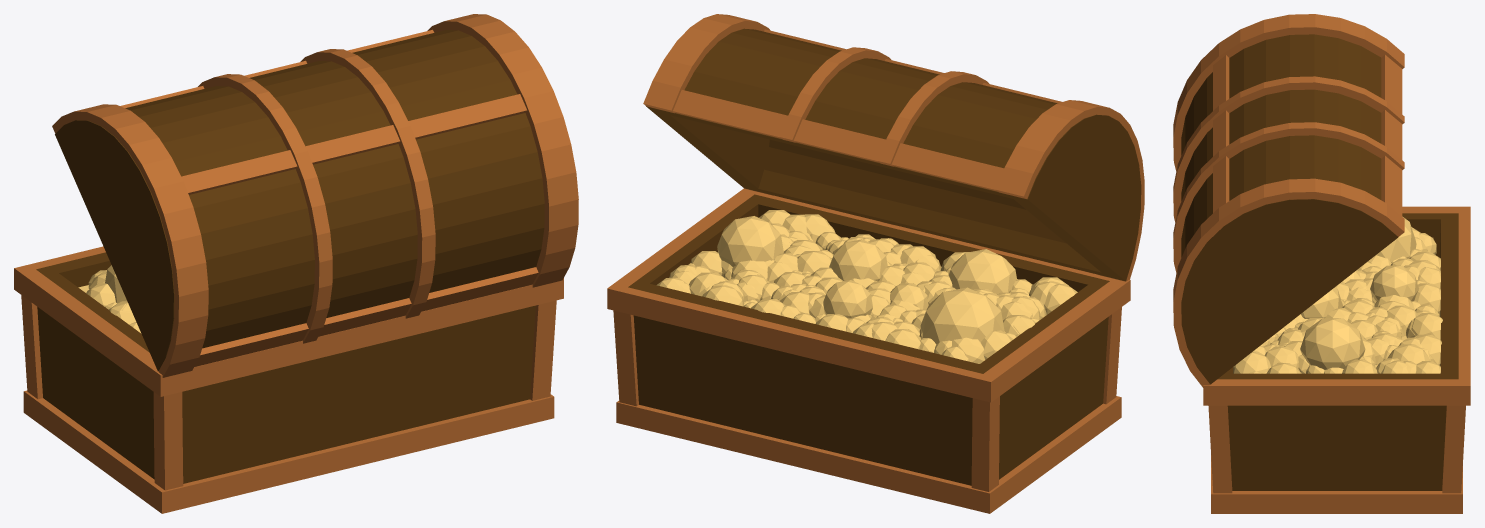
File: treasure chest.fbx
3 views of the same model, side by side, from view 1: azimuth 30°, elevation 25°; view 2: azimuth 150°, elevation 25°; view 3: azimuth 270°, elevation 25° (orthographic). The views are drawn at different scales.
Visible parts, largest first — view 1: top, Cube, Cube.002, Cube.001, top left, top right, top ttop, top middle 2, top middle 1, top bottom 1, Cube.004, Cube.003 (+2 smaller); view 2: top, Cube, Cube.002, Cube.001, top bottom 2, top left, top right, Icosphere.005, Cube.005, Icosphere.003, Icosphere.002, top middle 2 (+7 smaller); view 3: top, Cube, Cube.002, top right, Cube.001, top left, top middle 2, top middle 1, top bottom 2, Icosphere.003, top ttop, Cube.006 (+12 smaller).
Part boxes in pixels (left/top/right/bottom): top: left=55, top=30, right=544, bottom=371; Cube: left=36, top=252, right=535, bottom=483; Cube.002: left=14, top=246, right=563, bottom=396; Cube.001: left=23, top=390, right=554, bottom=513; top left: left=52, top=104, right=208, bottom=377; top right: left=427, top=14, right=578, bottom=287; top ttop: left=181, top=94, right=527, bottom=194; top middle 2: left=300, top=49, right=435, bottom=318; top middle 1: left=198, top=74, right=332, bottom=343; top bottom 1: left=194, top=267, right=538, bottom=366; Cube.004: left=153, top=392, right=183, bottom=490; Cube.003: left=530, top=300, right=556, bottom=400; top: left=646, top=28, right=1141, bottom=281; Cube: left=628, top=194, right=1109, bottom=485; Cube.002: left=607, top=188, right=1130, bottom=402; Cube.001: left=616, top=396, right=1121, bottom=513; top bottom 2: left=673, top=90, right=1003, bottom=191; top left: left=995, top=100, right=1144, bottom=281; top right: left=643, top=14, right=772, bottom=195; Icosphere.005: left=920, top=287, right=1004, bottom=344; Cube.005: left=971, top=396, right=999, bottom=491; Icosphere.003: left=717, top=216, right=783, bottom=266; Icosphere.002: left=948, top=249, right=1016, bottom=294; top middle 2: left=779, top=47, right=894, bottom=225; top: left=1181, top=34, right=1398, bottom=384; Cube: left=1218, top=213, right=1458, bottom=490; Cube.002: left=1203, top=206, right=1470, bottom=405; top right: left=1173, top=178, right=1404, bottom=387; Cube.001: left=1211, top=455, right=1462, bottom=513; top left: left=1173, top=14, right=1404, bottom=170; top middle 2: left=1173, top=122, right=1404, bottom=272; top middle 1: left=1173, top=76, right=1404, bottom=221; top bottom 2: left=1381, top=55, right=1402, bottom=216; Icosphere.003: left=1300, top=318, right=1365, bottom=369; top ttop: left=1213, top=55, right=1229, bottom=212; Cube.006: left=1442, top=405, right=1465, bottom=493.
Size of the model in its own units: 443 by 373 by 310.
